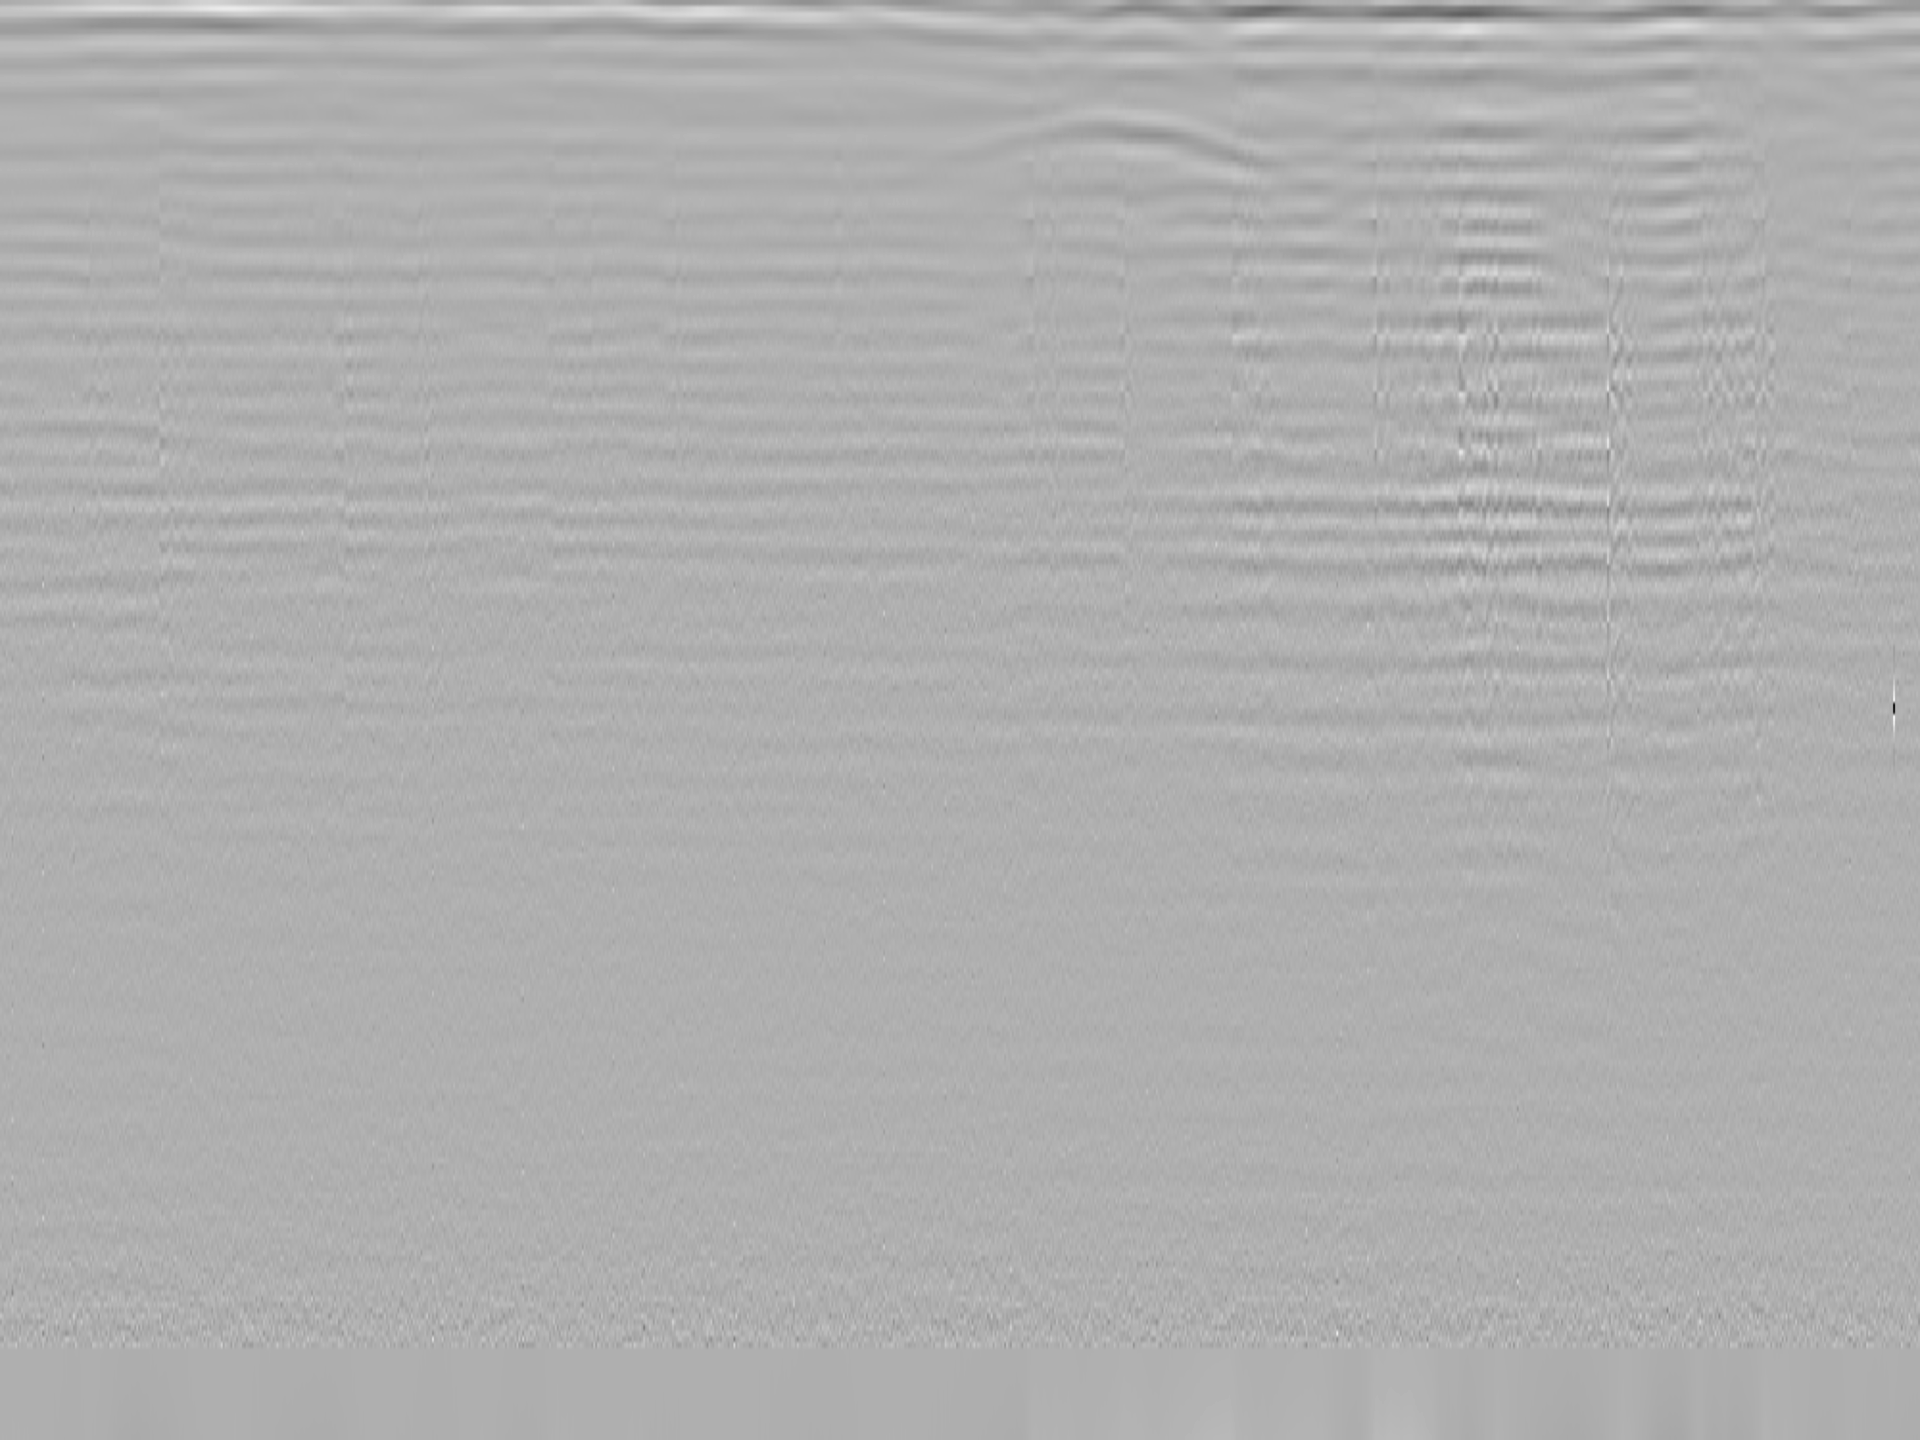Tunnel: (943, 109, 1281, 178)
